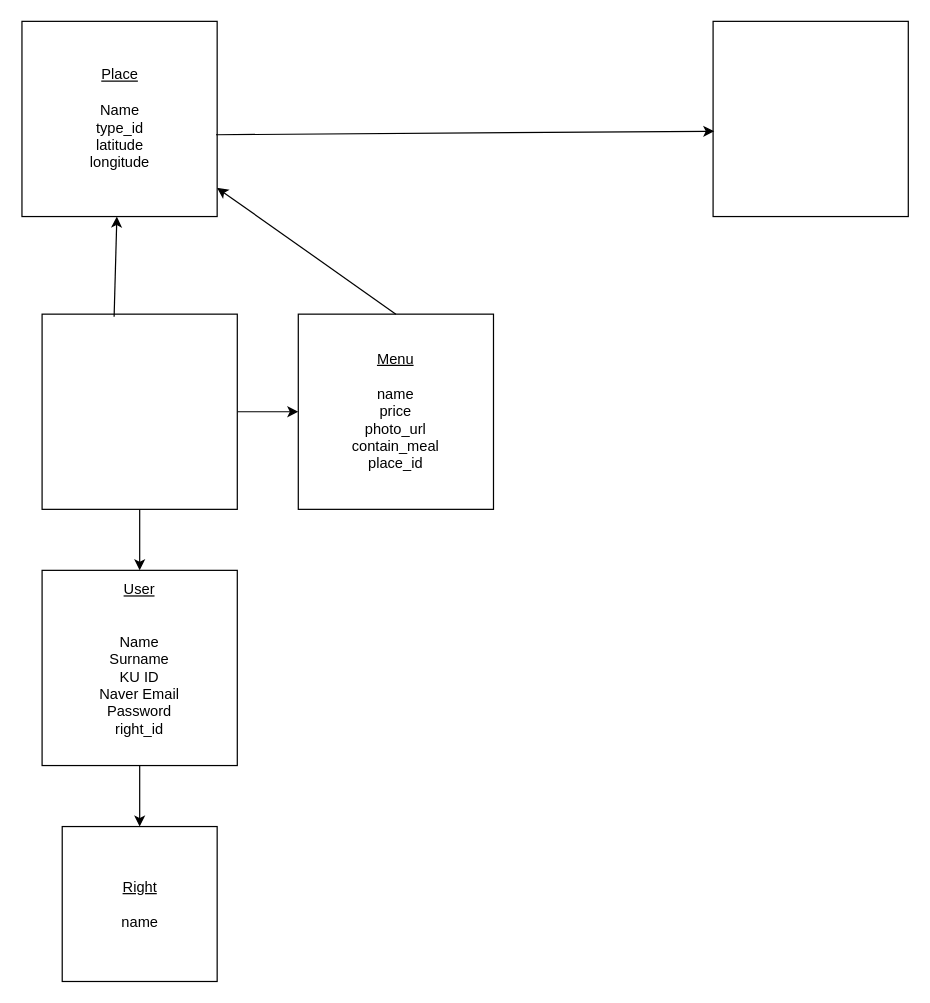
Image size: 930x1003. Some labels were removed from this diagram. The centre of each missing label's shape, as x and y in pixels:
Review cleanliness food delivery_speed comment menu_id place_id user_id: [139,411]
type_place name: [810,118]
